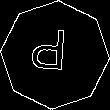P_S: (34, 28, 76, 82)
